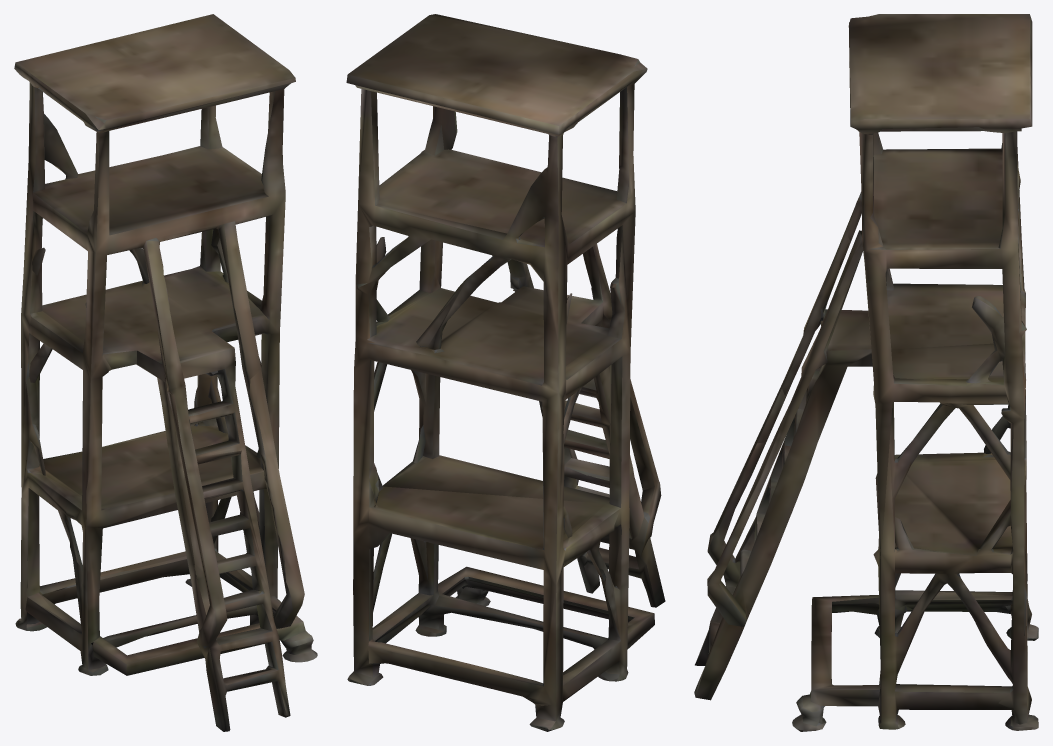
Rendered from plain-wood-scaffold-tower-v002.glb.
3 renders of one model, left to right at view 1: azimuth 30°, elevation 25°; view 2: azimuth 150°, elevation 25°; view 3: azimuth 270°, elevation 25°, orthographic. The views are drawn at different scales.
Parts seen in each view (by area): view 1: plain-wood-scaffold-tower; view 2: plain-wood-scaffold-tower; view 3: plain-wood-scaffold-tower.
Boxes of the visible parts, x1,y1,x2,y2 form: plain-wood-scaffold-tower: [14, 14, 317, 731]; plain-wood-scaffold-tower: [346, 14, 665, 731]; plain-wood-scaffold-tower: [694, 14, 1038, 731].
Bounding box in the file's own units: 1.23 × 3.39 × 1.7.
Materials: 1 (1 with a texture image).
